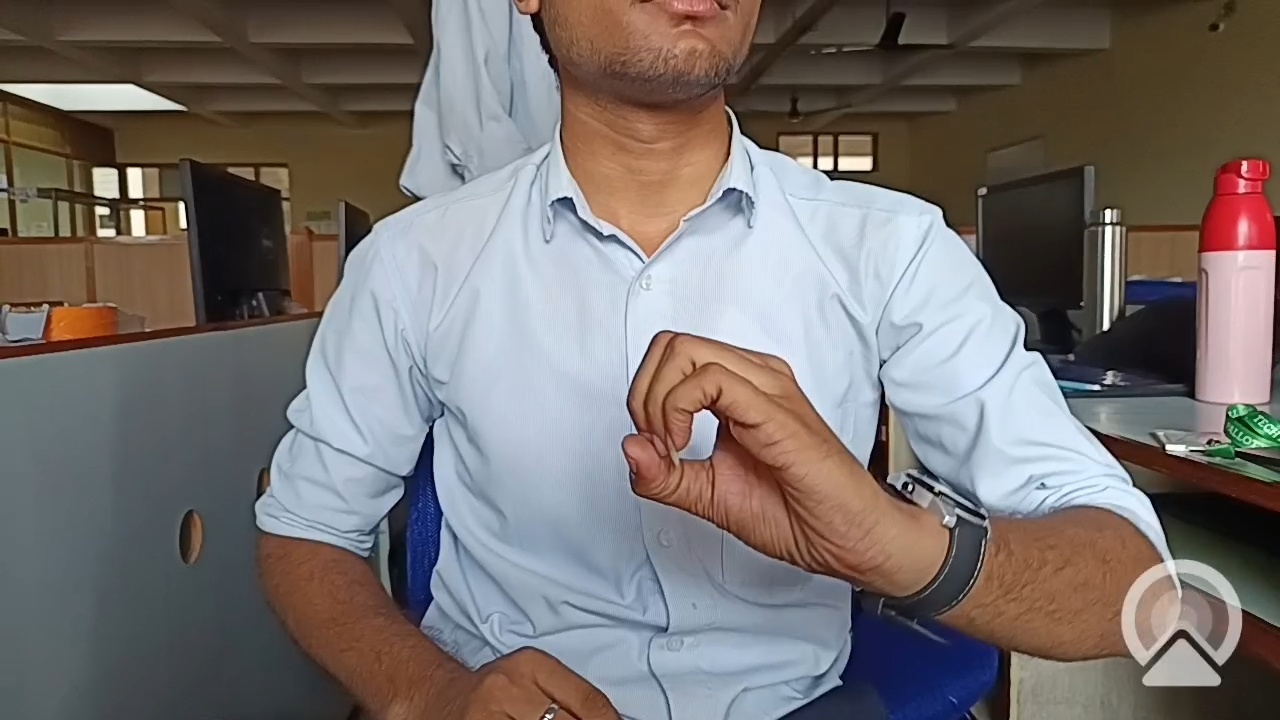O: (602, 305, 901, 636)
